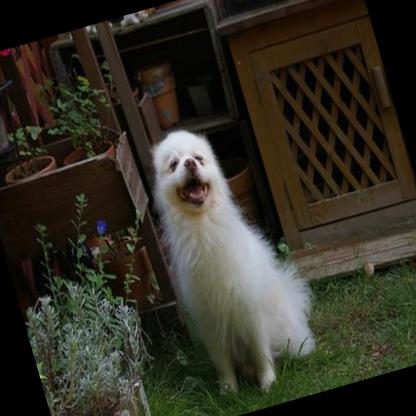Pomeranian: (131, 105, 330, 408)
